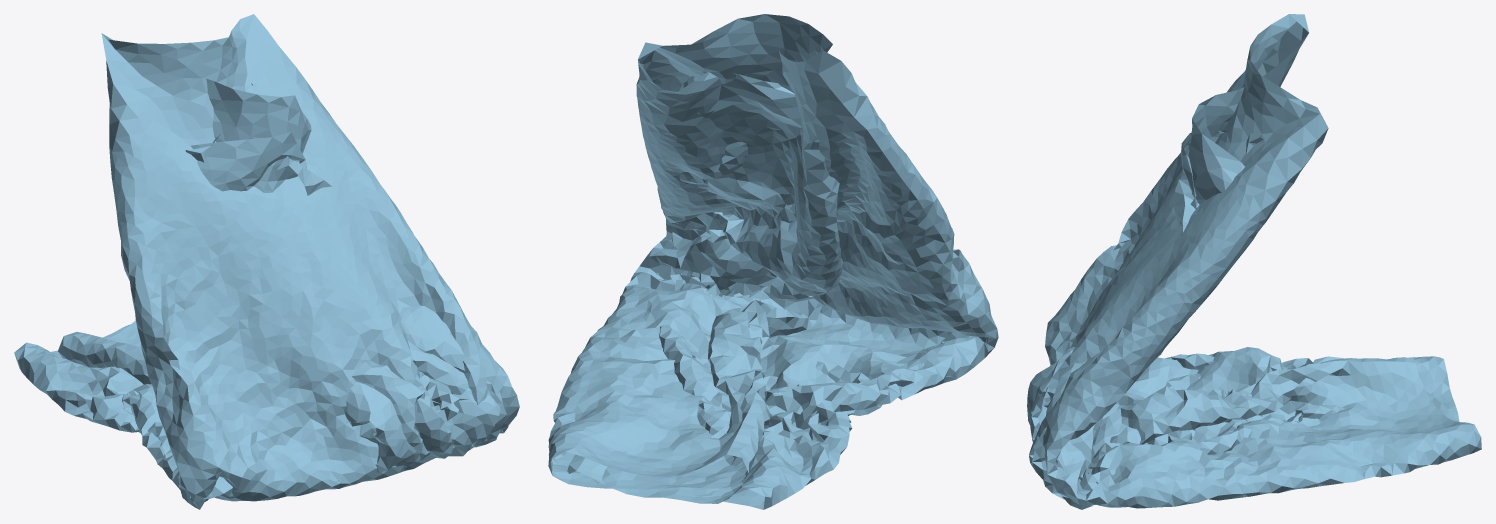
The model's file is frame_15.glb.
3 renders of one model, left to right at view 1: azimuth 30°, elevation 25°; view 2: azimuth 150°, elevation 25°; view 3: azimuth 270°, elevation 25°, orthographic. The views are drawn at different scales.
Parts seen in each view (by area): view 1: frame_15.obj; view 2: frame_15.obj; view 3: frame_15.obj.
Part boxes in pixels (box(x1,y1,x2,y2)): frame_15.obj: box(14, 14, 519, 509); frame_15.obj: box(548, 14, 998, 509); frame_15.obj: box(1027, 14, 1481, 509).
Size of the model in its own units: 0.8488 by 0.9425 by 1.04.
